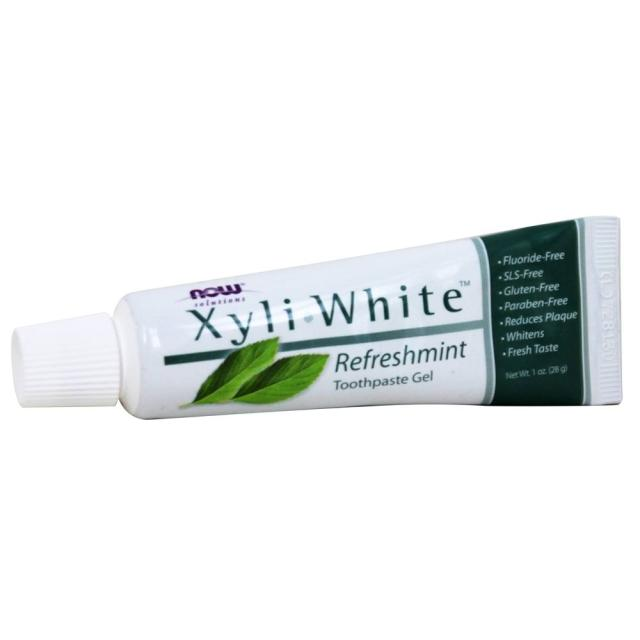toothpaste: (0, 187, 633, 445)
